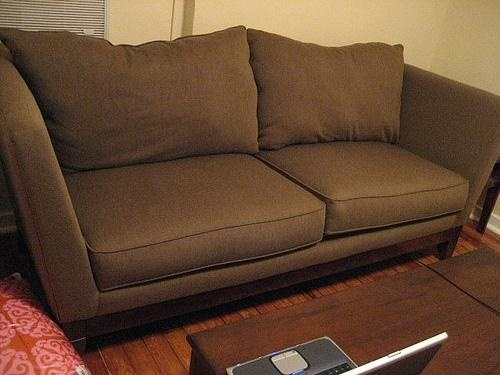sofa: (1, 26, 500, 355)
